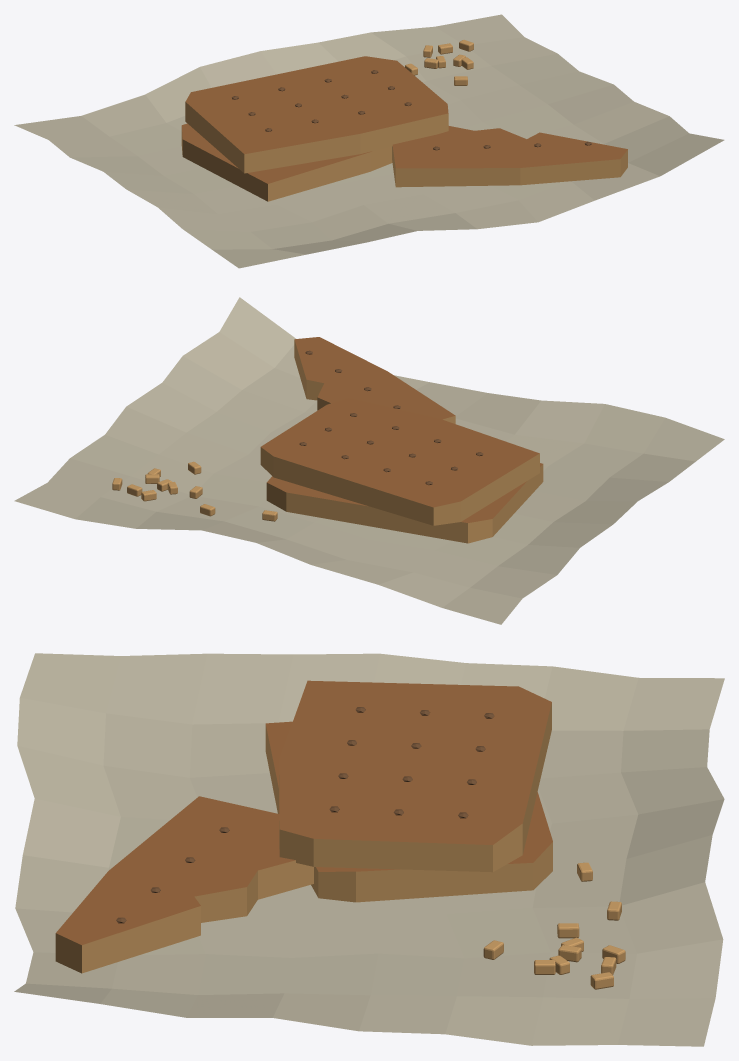
Rendered from WD-02_rye_ration.glb.
3 renders of one model, top to bottom at view 1: azimuth 30°, elevation 25°; view 2: azimuth 150°, elevation 25°; view 3: azimuth 270°, elevation 25°, orthographic. The views are drawn at different scales.
Parts seen in each view (by area): view 1: Opened paper wrapper; view 2: Opened paper wrapper; view 3: Opened paper wrapper.
Boxes of the visible parts, x1,y1,x2,y2 form: Opened paper wrapper: (14, 14, 724, 268); Opened paper wrapper: (14, 297, 724, 624); Opened paper wrapper: (14, 653, 724, 1046).
Bounding box in the file's own units: 0.2418 × 0.0246 × 0.1979.
